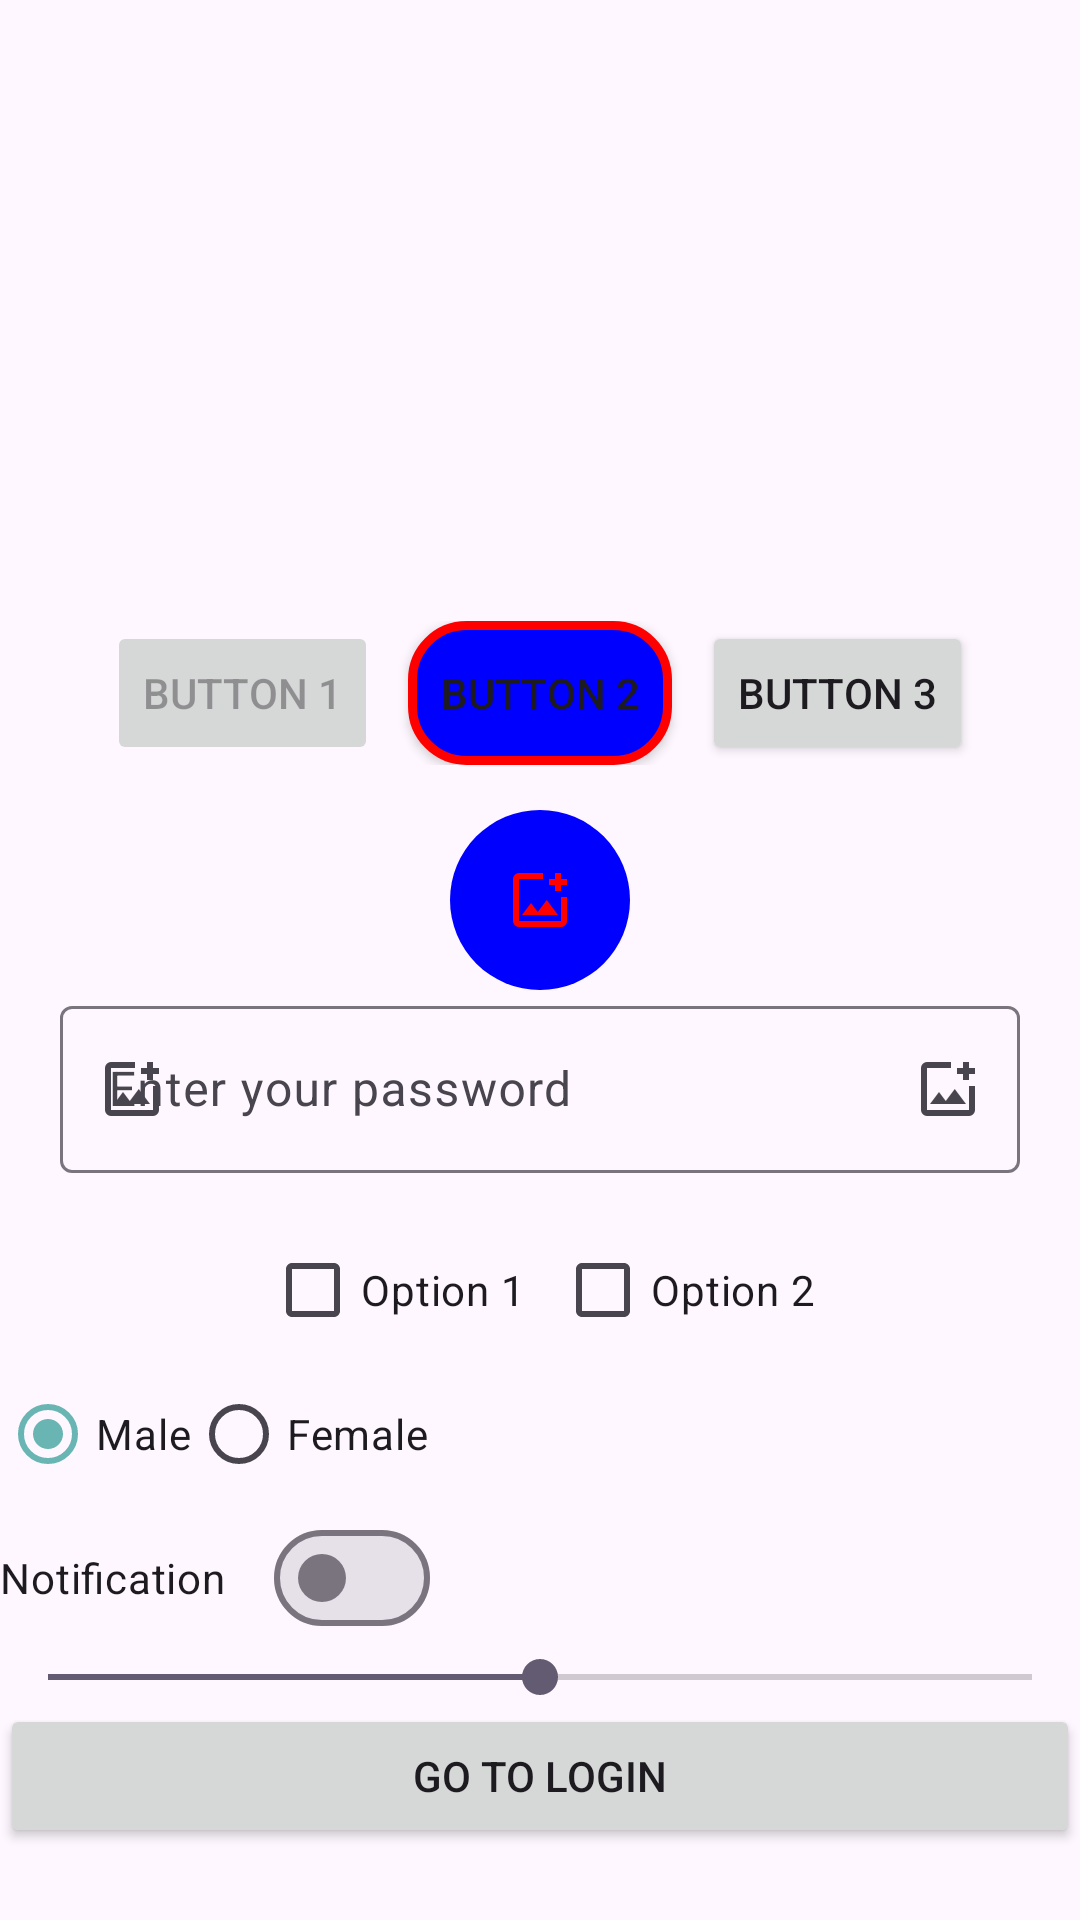

Named icons in this screenshot (1080×1920) and their bounding boxes, (x1, y1, x2, y2):
add photo alternate: (450, 810, 630, 990)
